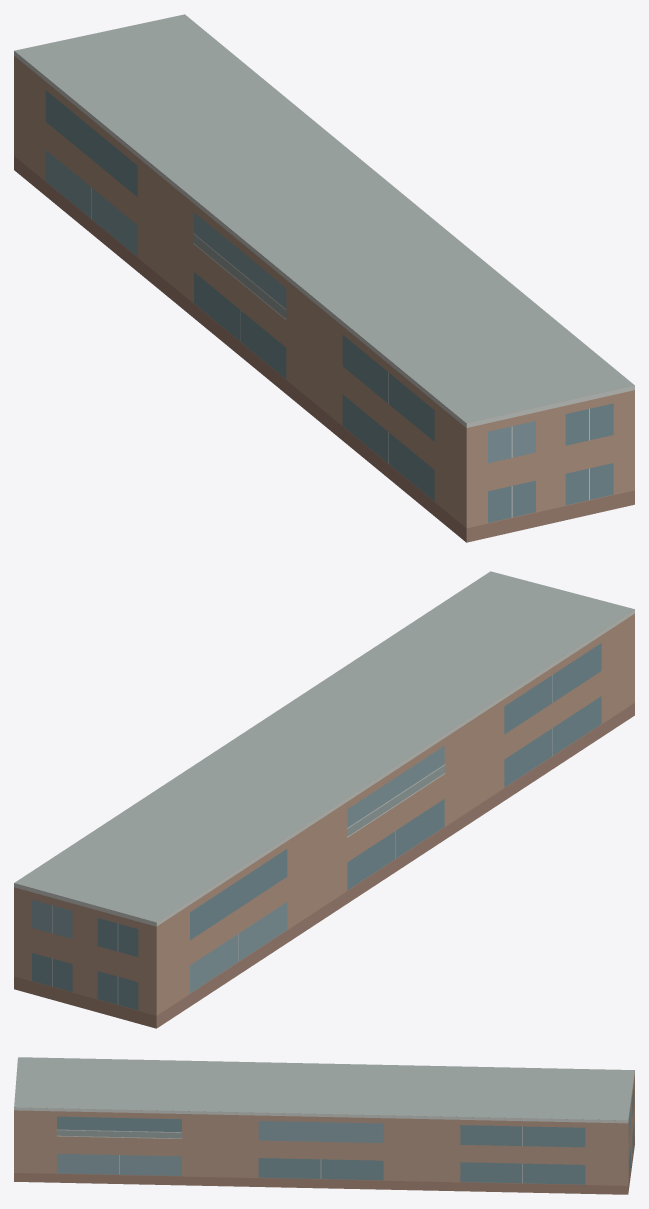
The model's file is survey-upis-32766620.glb.
3 renders of one model, top to bottom at view 1: azimuth 30°, elevation 25°; view 2: azimuth 150°, elevation 25°; view 3: azimuth 270°, elevation 25°, orthographic. The views are drawn at different scales.
Visible parts, largest first — view 1: survey-upis-32766620.tmp; view 2: survey-upis-32766620.tmp; view 3: survey-upis-32766620.tmp.
Boxes of the visible parts, bbox=[...] form: survey-upis-32766620.tmp: bbox=[14, 14, 634, 542]; survey-upis-32766620.tmp: bbox=[14, 571, 634, 1028]; survey-upis-32766620.tmp: bbox=[14, 1057, 634, 1194].
Size of the model in its own units: 11.13 by 6.1 by 46.16.
